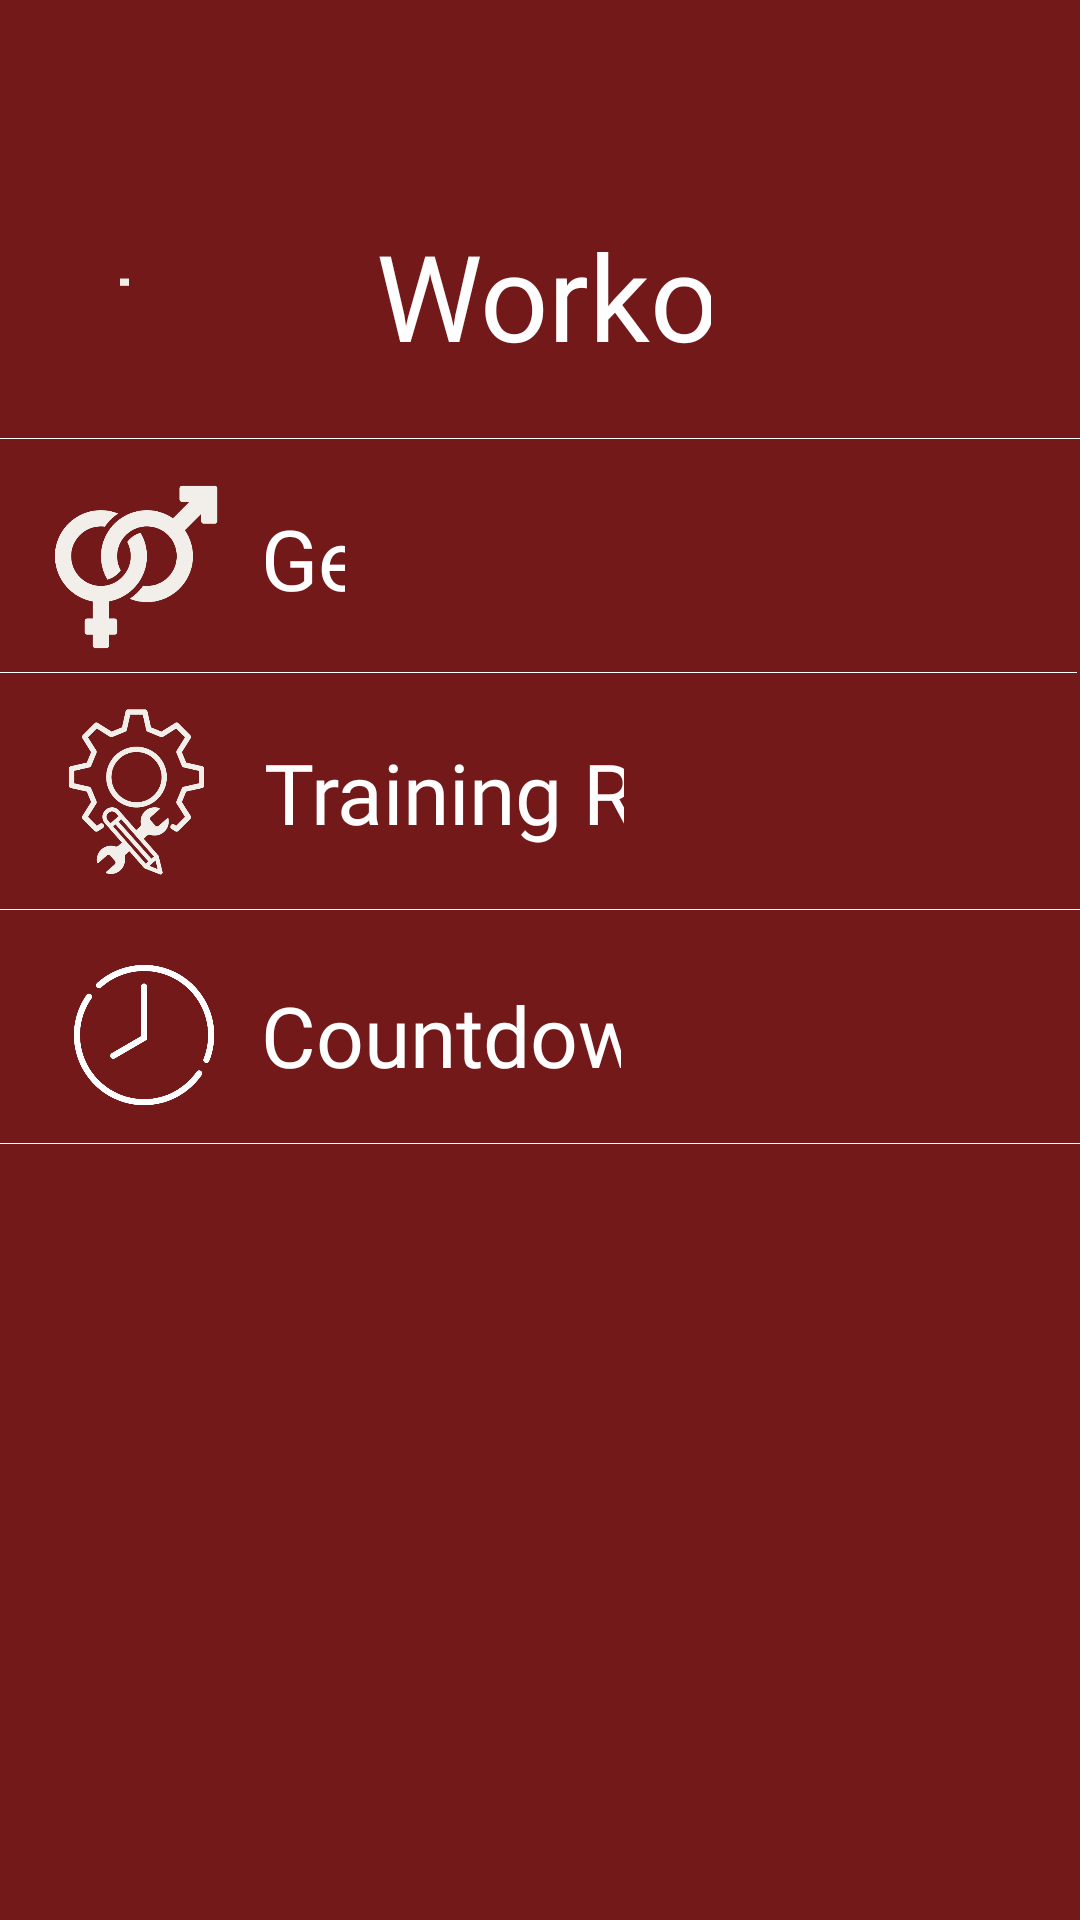

Named icons in this screenshot (1080px×1920px) and their bounding boxes, (x1, y1, x2, y2):
clock: (74, 965, 214, 1105)
